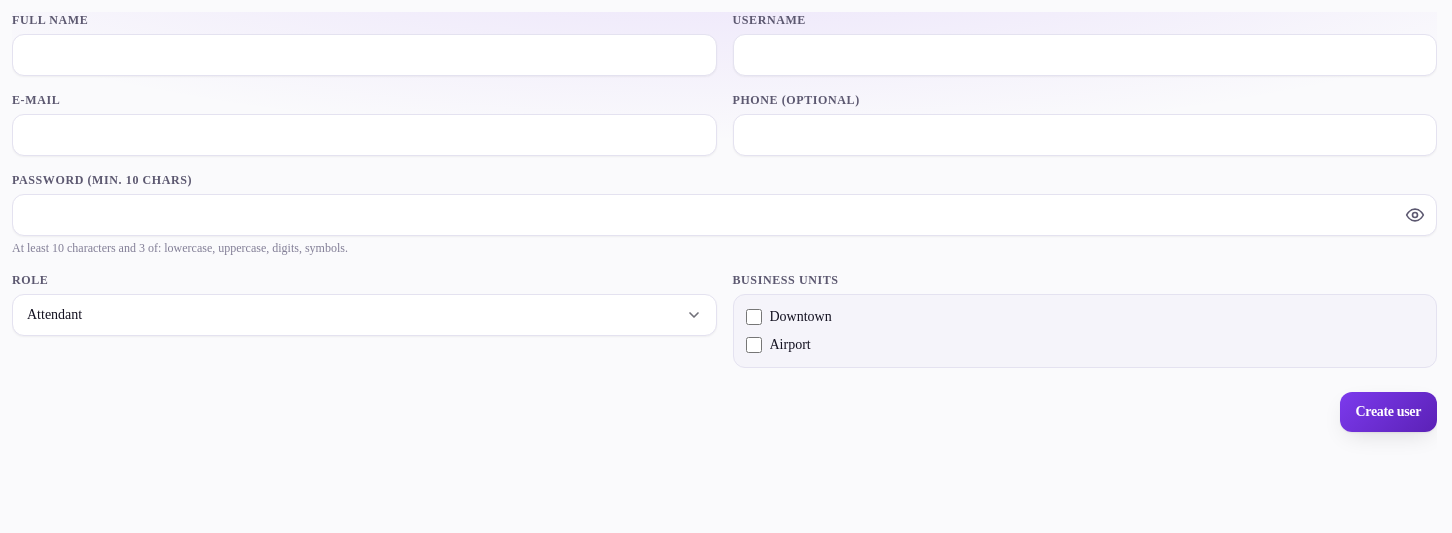
Scenario: UserForm (create) › maps a username_taken code to its message
Type "Bob Staff" into the field labelled "Full name" at {"x": 364, "y": 55}, box [12,34,716,76]
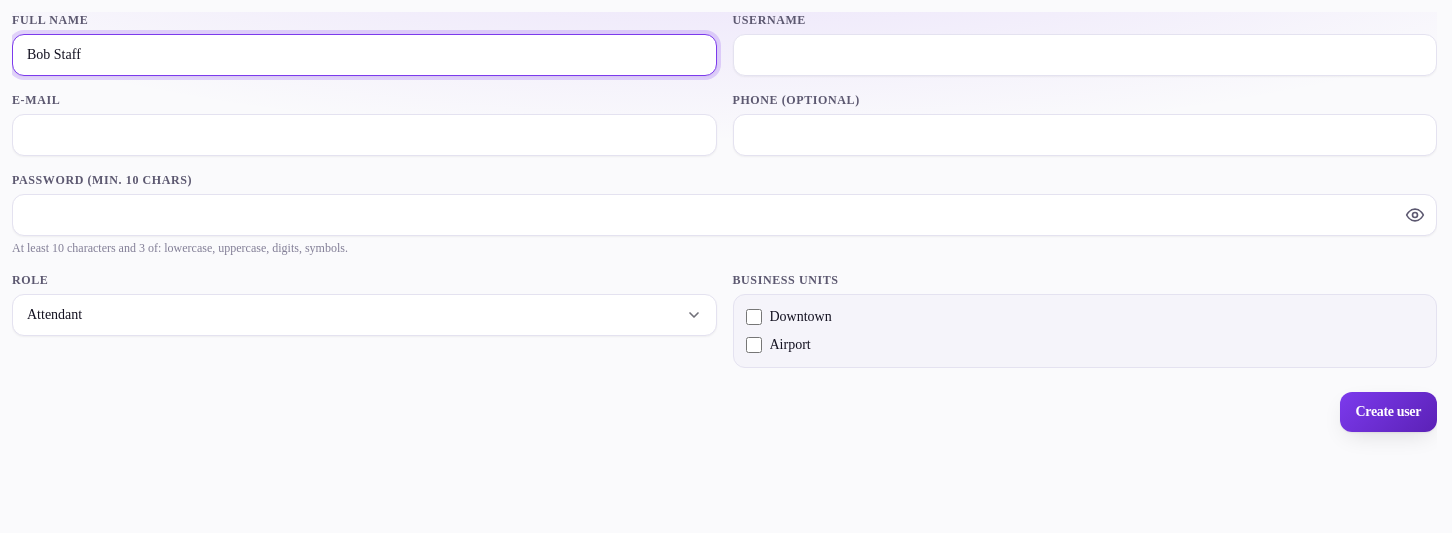
Type "bob@example.com" into the field labelled "E-mail" at {"x": 364, "y": 135}, box [12,114,716,156]
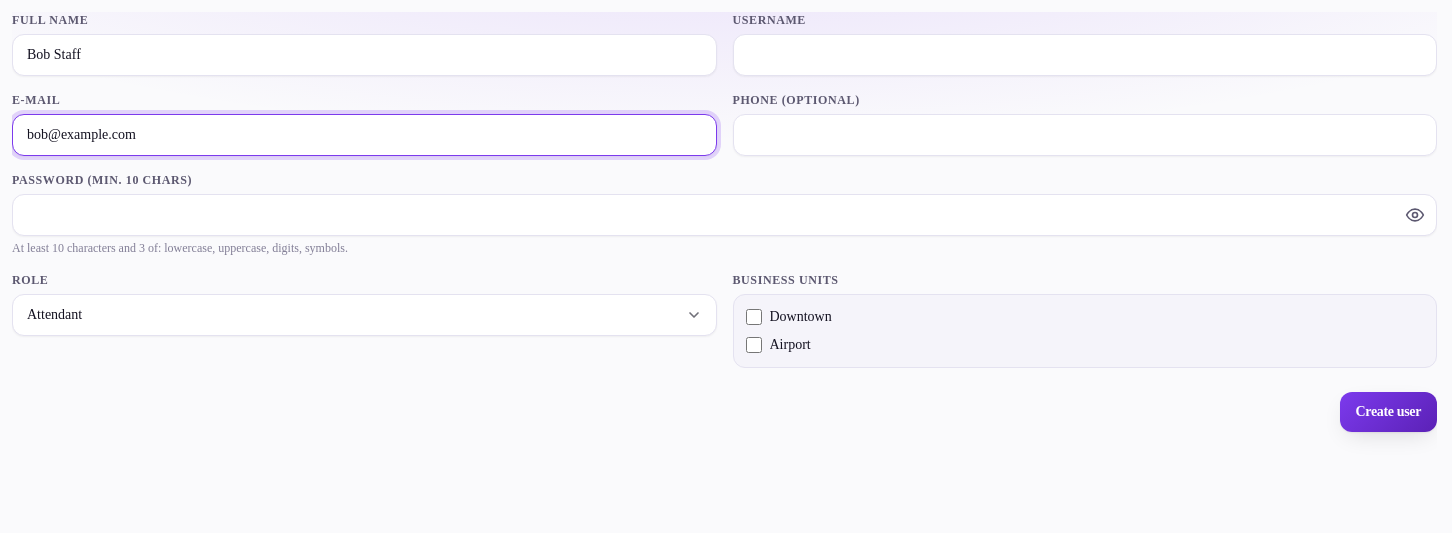
Type "bobstaff" into the field labelled "Username" at {"x": 1085, "y": 55}, box [732,34,1437,76]
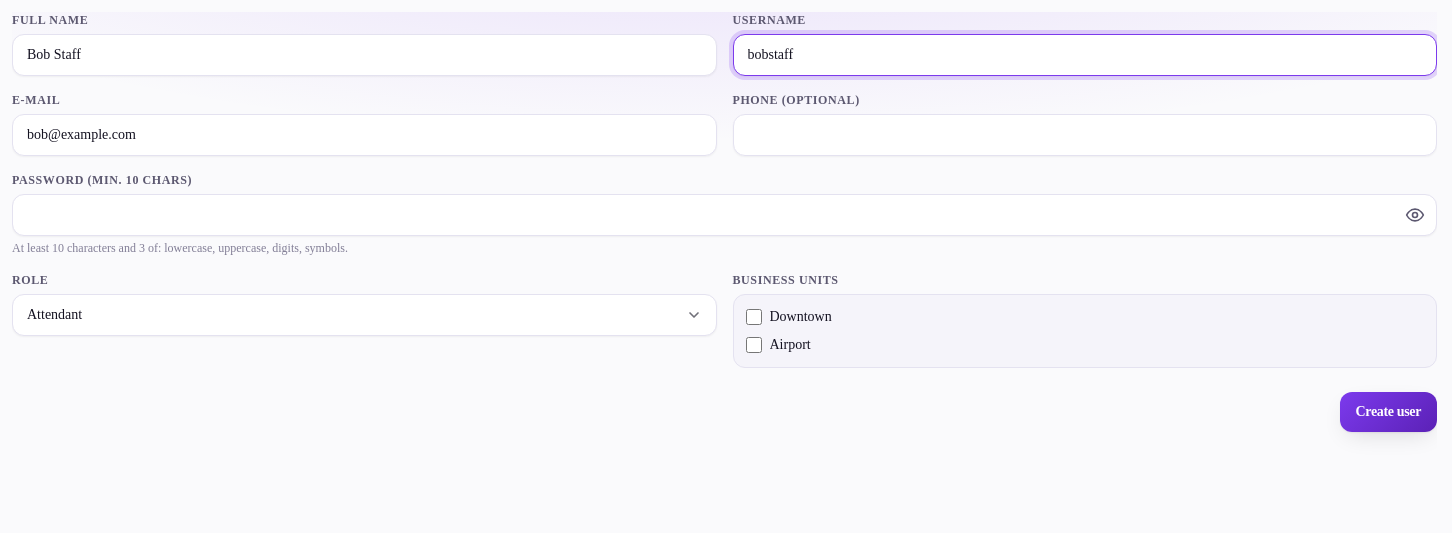
Type "NewPass123" into the password field labelled "Password (min. 10 chars)" at {"x": 724, "y": 215}, box [12,194,1437,236]
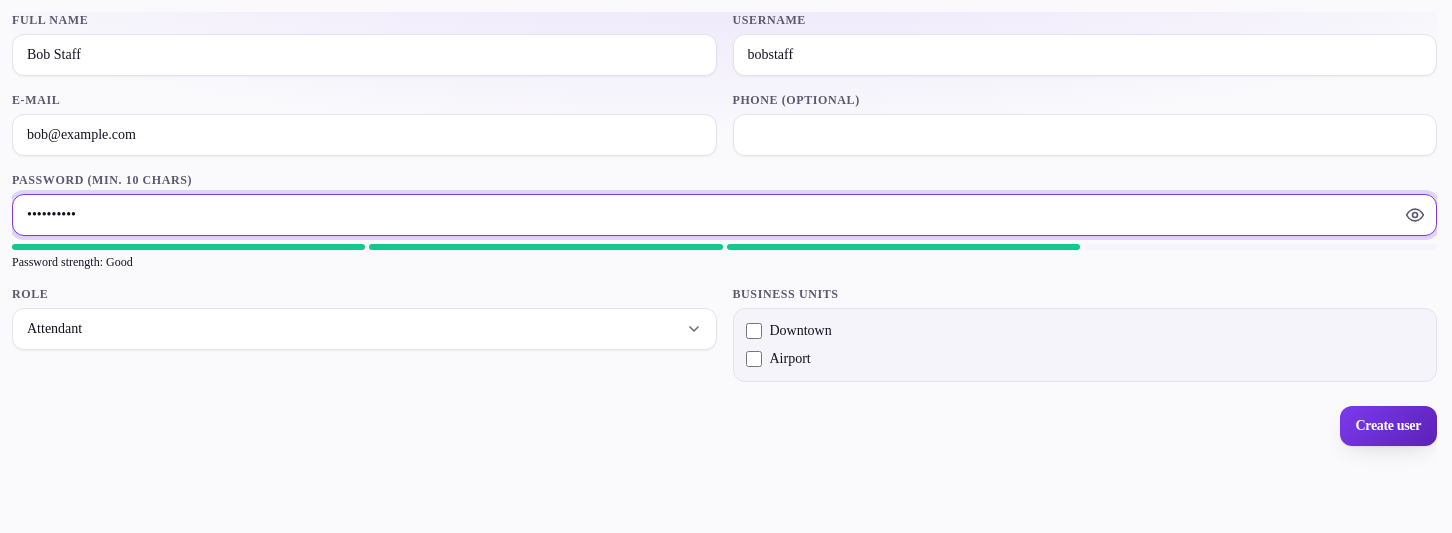
Click the checkbox labelled "Downtown" at {"x": 754, "y": 331}, box [746,323,762,339]
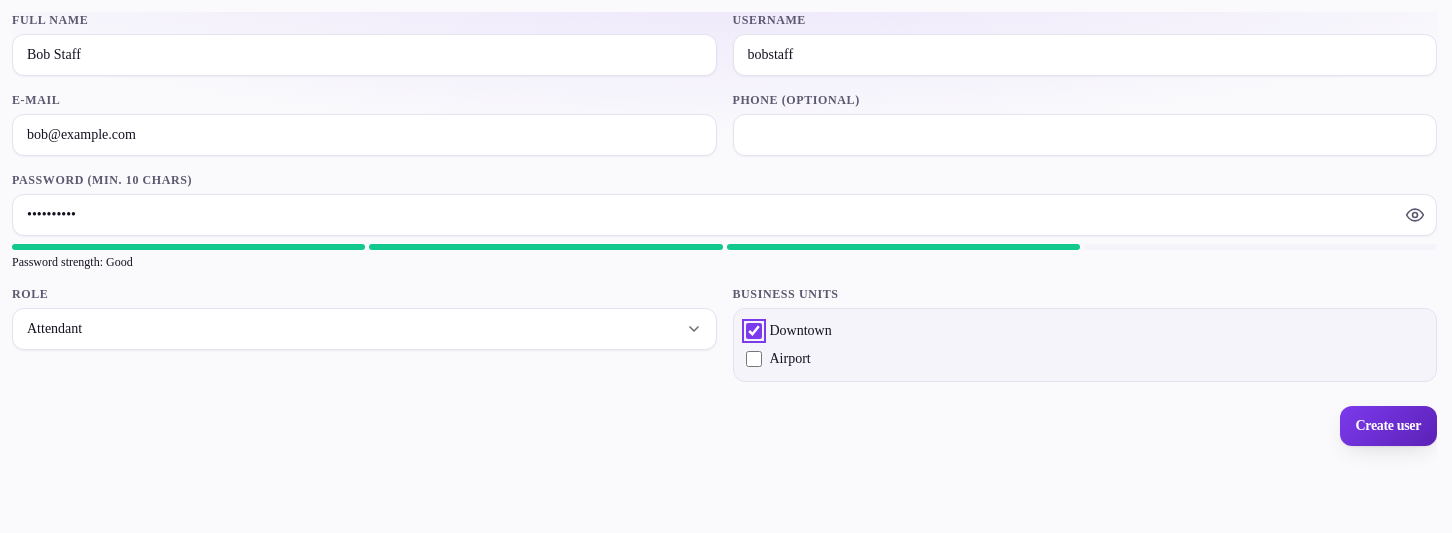
Click the button "Create user" at {"x": 1388, "y": 426}, box [1340,406,1437,446]
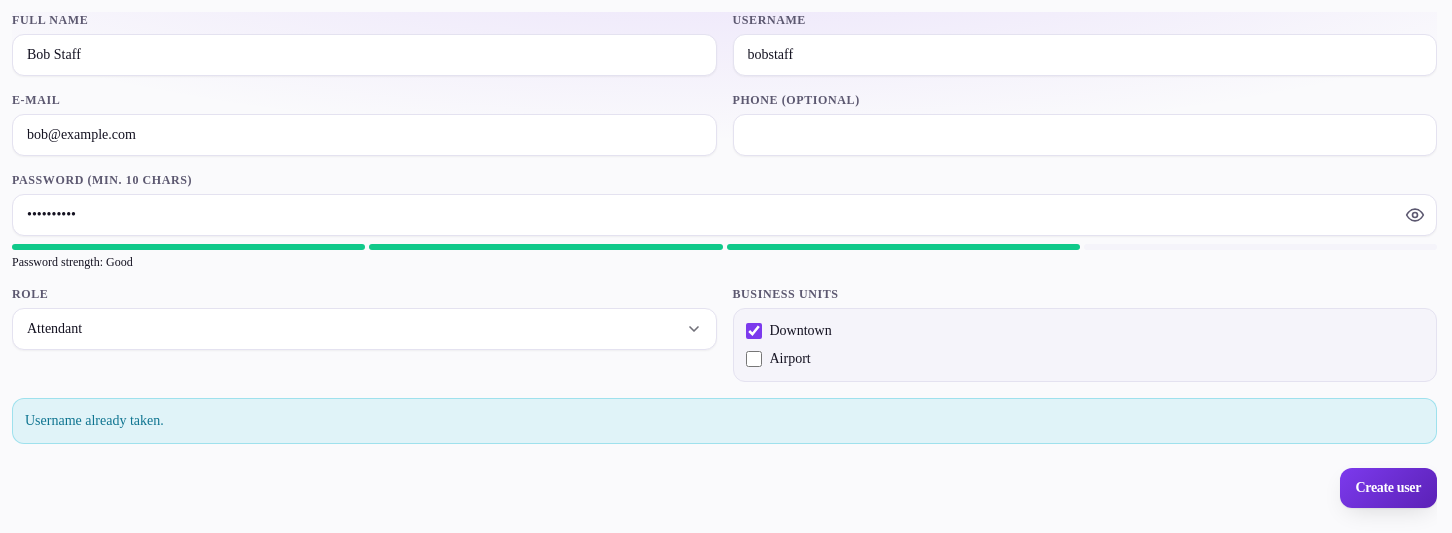
Check: the message "Username already taken." is shown, box [12,398,1437,444]
